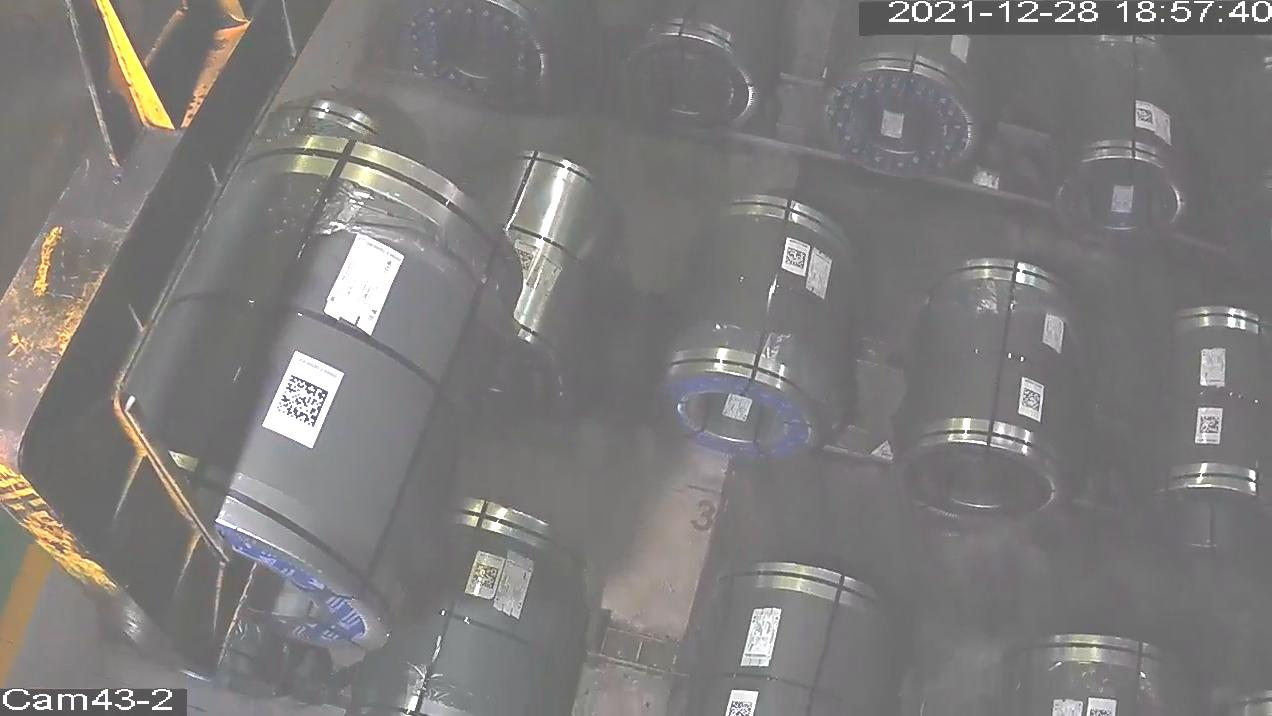data matrix: (274, 372, 332, 431), (469, 562, 503, 594), (1021, 386, 1044, 416), (783, 246, 809, 272), (1198, 416, 1222, 437), (1134, 106, 1157, 127)
